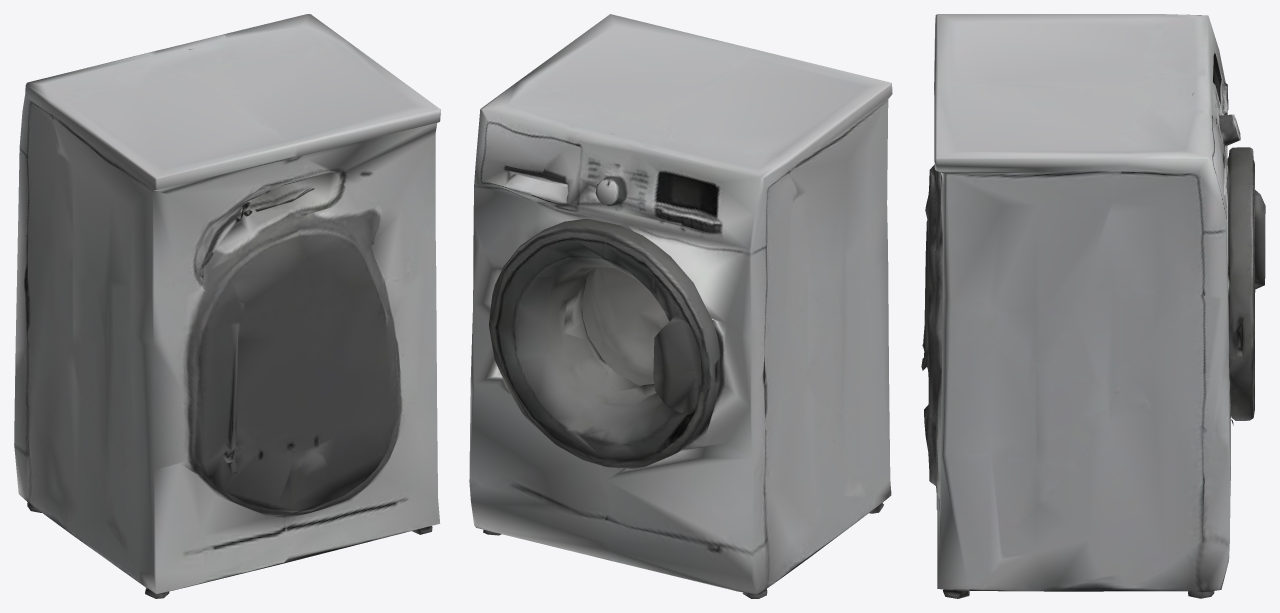
Rendered from washing_machine.42def1d3.glb.
3 views of the same model, side by side, from view 1: azimuth 30°, elevation 25°; view 2: azimuth 150°, elevation 25°; view 3: azimuth 270°, elevation 25° (orthographic). The views are drawn at different scales.
Parts seen in each view (by area): view 1: tripo_node_887882b3-538b-4be4-82f5-6e55fb2704e0; view 2: tripo_node_887882b3-538b-4be4-82f5-6e55fb2704e0; view 3: tripo_node_887882b3-538b-4be4-82f5-6e55fb2704e0.
Part boxes in pixels (bbox=[...]): tripo_node_887882b3-538b-4be4-82f5-6e55fb2704e0: bbox=[14, 14, 440, 598]; tripo_node_887882b3-538b-4be4-82f5-6e55fb2704e0: bbox=[469, 14, 892, 598]; tripo_node_887882b3-538b-4be4-82f5-6e55fb2704e0: bbox=[921, 14, 1265, 598].
Bounding box in the file's own units: 0.5986 × 0.8499 × 0.5989.
1 material, 1 textured.
